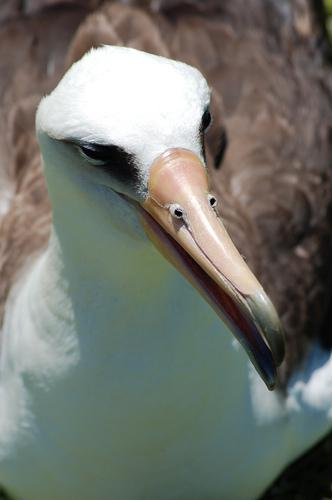002.Laysan_Albatross: (3, 5, 332, 498)
